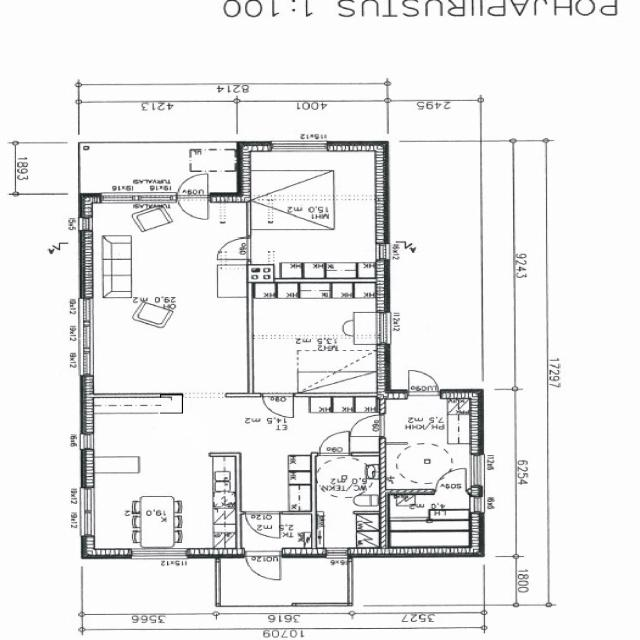door: (243, 546, 281, 583), (408, 366, 442, 399), (176, 170, 209, 203), (176, 194, 209, 226), (434, 466, 466, 495), (261, 393, 294, 420), (246, 511, 279, 538), (319, 431, 350, 456), (349, 416, 386, 436), (216, 238, 250, 259)
